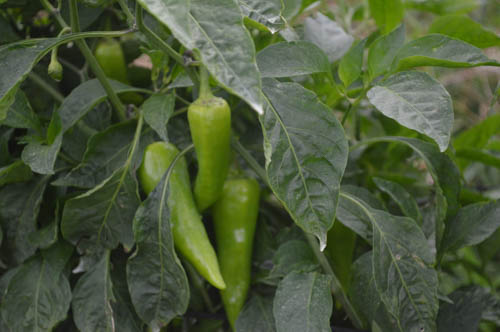ChiliPepper: (142, 145, 226, 290), (214, 179, 259, 330), (189, 102, 233, 215), (97, 45, 141, 101)
